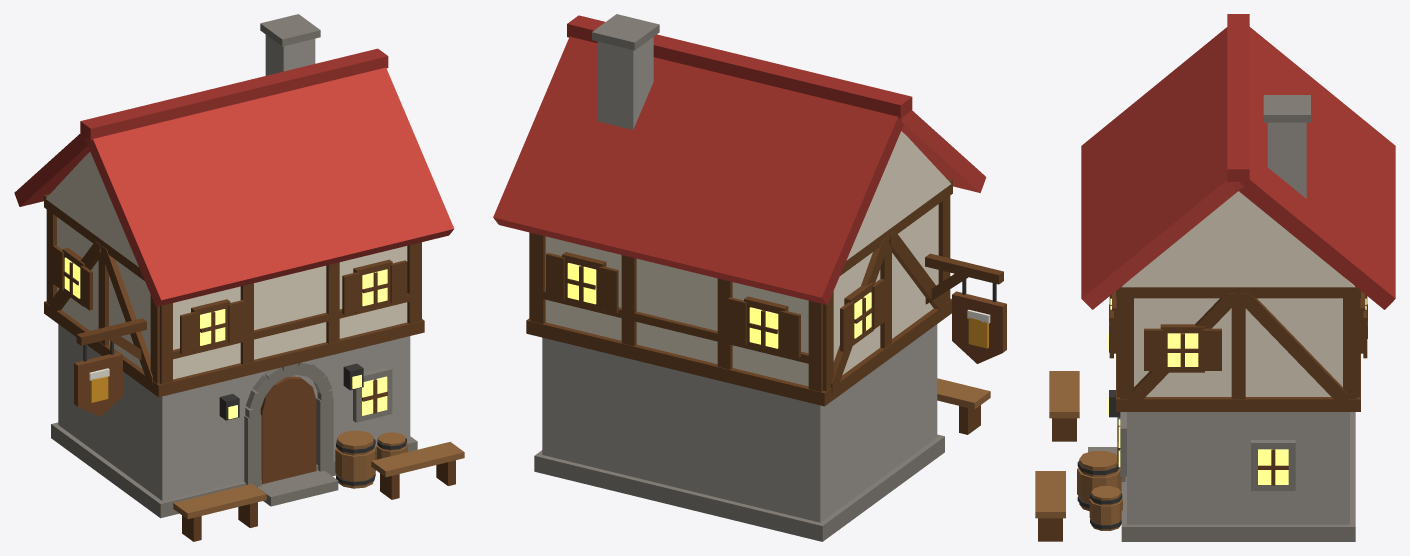
The model's file is tavern.glb.
3 views of the same model, side by side, from view 1: azimuth 30°, elevation 25°; view 2: azimuth 150°, elevation 25°; view 3: azimuth 270°, elevation 25° (orthographic). The views are drawn at different scales.
Parts seen in each view (by area): view 1: tavern_dach, tavern_stein, tavern_balken, tavern_putz, tavern_stein_dunkel, tavern_dach_dunkel, tavern_holz, tavern_tuer, tavern_laden, tavern_glas, tavern_schild, tavern_eisen; view 2: tavern_dach_dunkel, tavern_stein, tavern_balken, tavern_putz, tavern_stein_dunkel, tavern_laden, tavern_dach, tavern_schild, tavern_glas, tavern_holz; view 3: tavern_dach_dunkel, tavern_dach, tavern_stein, tavern_putz, tavern_balken, tavern_stein_dunkel, tavern_holz, tavern_laden, tavern_glas, tavern_eisen.
Part boxes in pixels (x1,y1,x2,y2): tavern_dach: [85, 67, 454, 306]; tavern_stein: [58, 35, 410, 500]; tavern_balken: [44, 194, 455, 541]; tavern_putz: [46, 152, 407, 379]; tavern_stein_dunkel: [51, 14, 417, 518]; tavern_dach_dunkel: [14, 48, 388, 206]; tavern_holz: [173, 430, 464, 519]; tavern_tuer: [260, 376, 316, 484]; tavern_laden: [53, 245, 407, 354]; tavern_glas: [64, 257, 387, 419]; tavern_schild: [74, 352, 122, 416]; tavern_eisen: [83, 341, 406, 485]; tavern_dach_dunkel: [493, 15, 912, 304]; tavern_stein: [542, 37, 937, 522]; tavern_balken: [526, 178, 1003, 434]; tavern_putz: [545, 131, 950, 386]; tavern_stein_dunkel: [534, 14, 944, 541]; tavern_laden: [546, 253, 884, 358]; tavern_dach: [901, 110, 986, 192]; tavern_schild: [952, 291, 1006, 363]; tavern_glas: [567, 263, 871, 348]; tavern_holz: [937, 378, 990, 409]; tavern_dach_dunkel: [1227, 14, 1395, 309]; tavern_dach: [1081, 27, 1243, 309]; tavern_stein: [1127, 122, 1349, 524]; tavern_putz: [1122, 191, 1355, 396]; tavern_balken: [1038, 285, 1367, 541]; tavern_stein_dunkel: [1088, 95, 1355, 541]; tavern_holz: [1035, 371, 1122, 530]; tavern_laden: [1109, 294, 1367, 370]; tavern_glas: [1107, 298, 1366, 484]; tavern_eisen: [1077, 339, 1122, 529].
Bounding box in the file's own units: 3.07 × 3.26 × 2.59.
